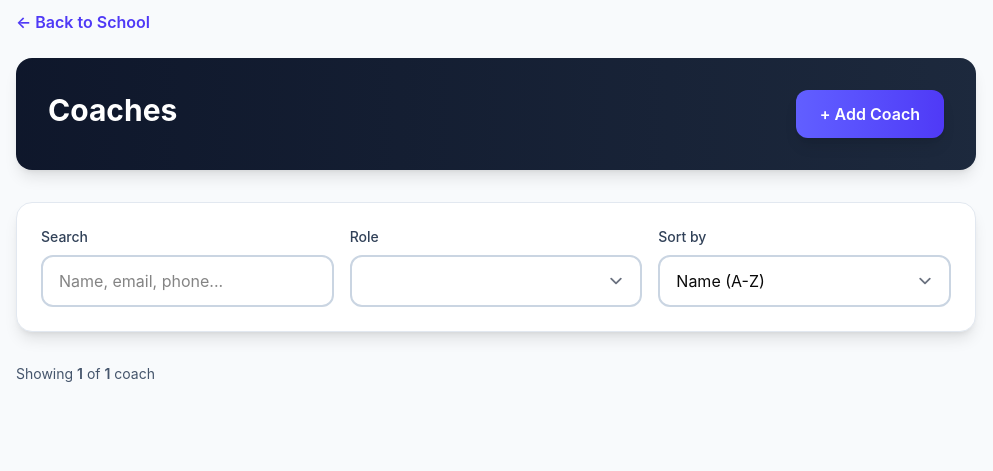
Scenario: pages/schools/[id]/coaches.vue › Clear Filters › should show clear filters button when filters are active
Type "John" into the field with id "search" at (187, 281), box [41,255,334,307]
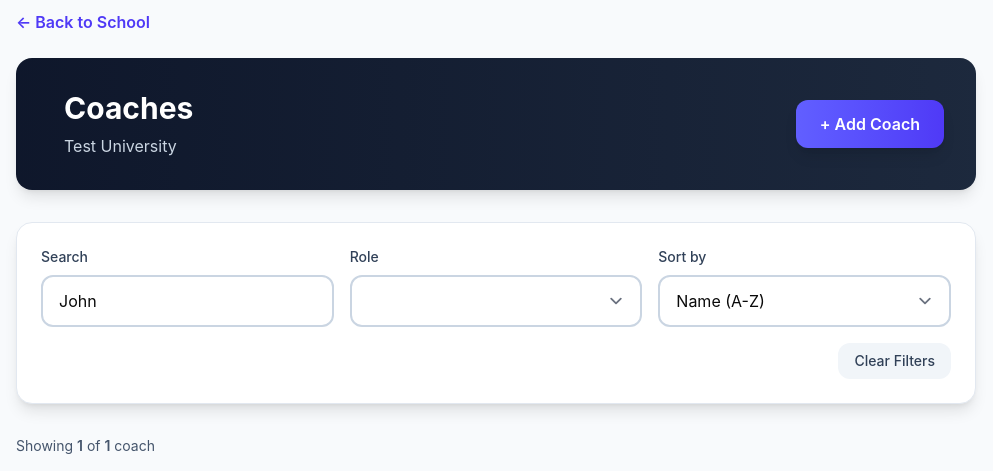
expect the button "Clear Filters" is shown: met, box [838,343,951,379]
